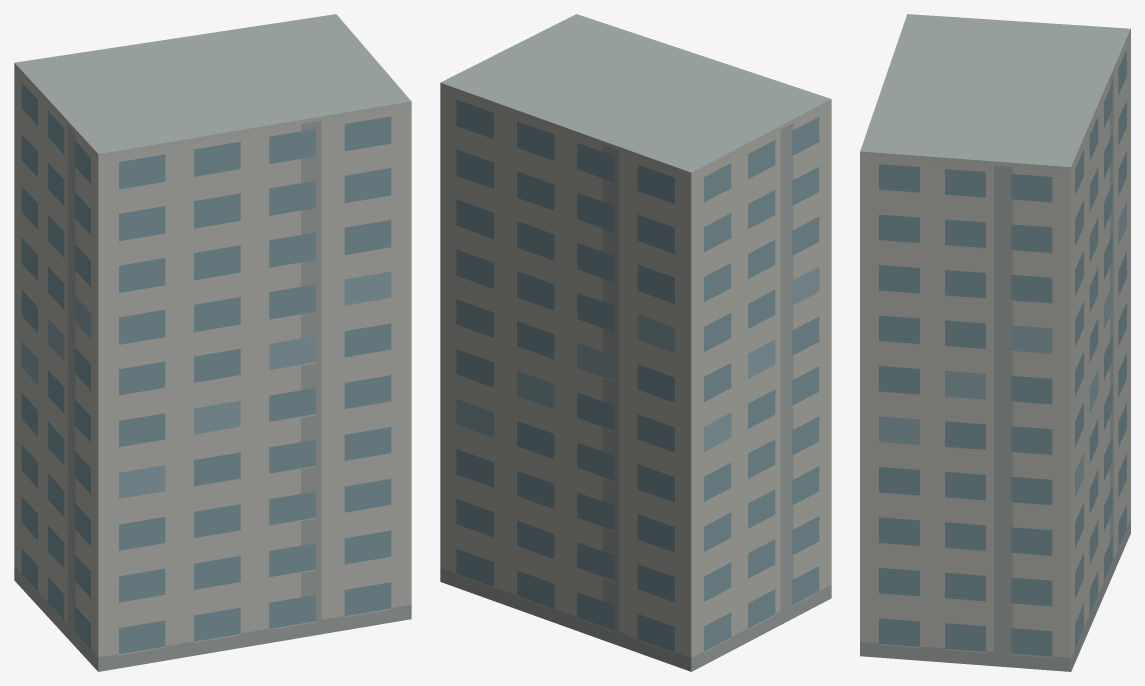
Rendered from residential-3ac636d2-eb38-40ab-a1c0-cf751fae8efd.glb.
3 renders of one model, left to right at view 1: azimuth 30°, elevation 25°; view 2: azimuth 150°, elevation 25°; view 3: azimuth 270°, elevation 25°, orthographic. The views are drawn at different scales.
Visible parts, largest first — view 1: residential-3ac636d2-eb38-40ab-a1c0-cf751fae8efd.tmp; view 2: residential-3ac636d2-eb38-40ab-a1c0-cf751fae8efd.tmp; view 3: residential-3ac636d2-eb38-40ab-a1c0-cf751fae8efd.tmp.
Part boxes in pixels (x1,y1,x2,y2): residential-3ac636d2-eb38-40ab-a1c0-cf751fae8efd.tmp: (14, 14, 411, 671); residential-3ac636d2-eb38-40ab-a1c0-cf751fae8efd.tmp: (440, 14, 831, 671); residential-3ac636d2-eb38-40ab-a1c0-cf751fae8efd.tmp: (860, 14, 1130, 671).
Bounding box in the file's own units: 19.86 × 30.5 × 14.84.
